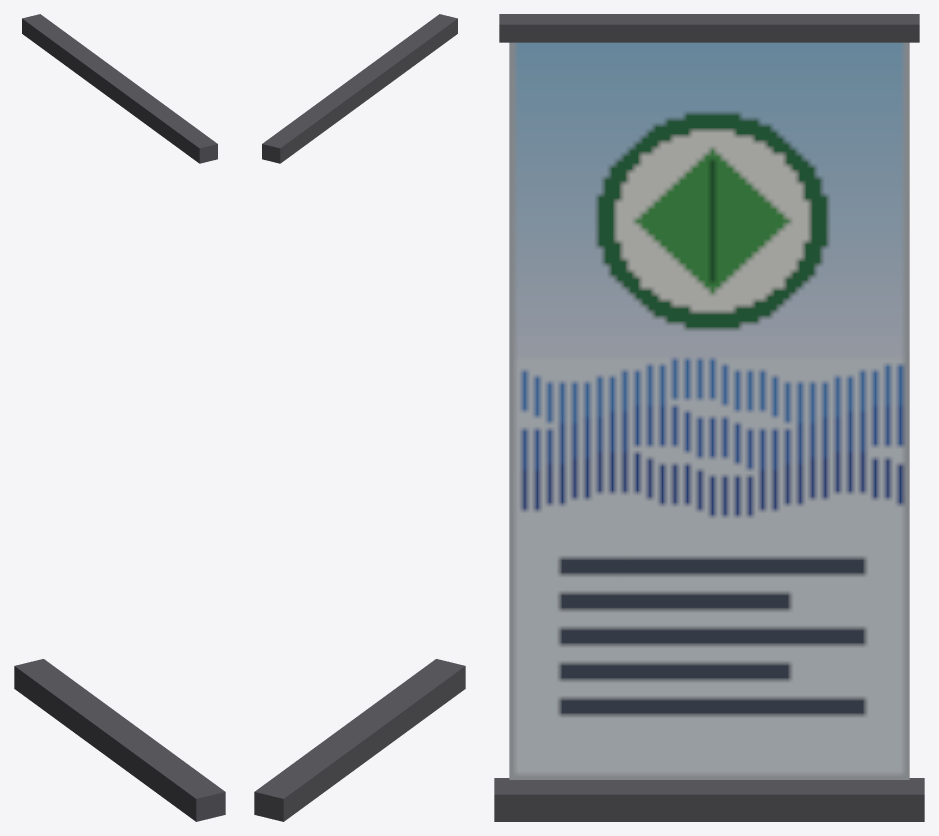
Rendered from banner_ambiental.glb.
The picture shows the model from 3 angles, left to right: view 1: azimuth 30°, elevation 25°; view 2: azimuth 150°, elevation 25°; view 3: azimuth 270°, elevation 25°; orthographic projection. The views are drawn at different scales.
Visible parts, largest first — view 1: Malha_0; view 2: Malha_0; view 3: Malha_0.
Boxes of the visible parts, x1=… form: Malha_0: x1=14, y1=14, x2=225, y2=821; Malha_0: x1=254, y1=14, x2=465, y2=821; Malha_0: x1=494, y1=14, x2=924, y2=821.
Size of the model in its own units: 0.08 by 1.75 by 0.86.
2 materials, 1 textured.
